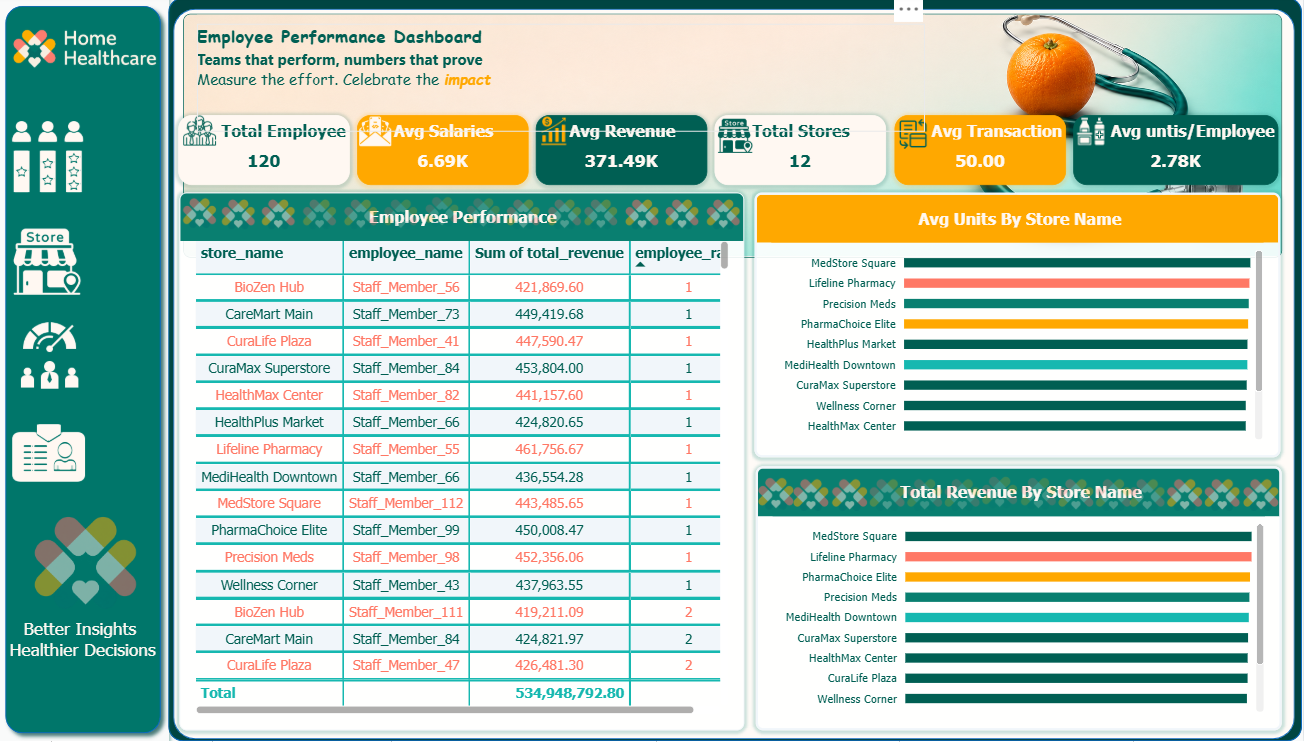

The page's visual inventory and layout, read from the dashboard file:
{"tool":"powerbi","page":{"name":"Employee Performance Dashboard","canvas":[1400,800],"ordinal":6},"visuals":[{"type":"shape","box":[184.2,2.4,1215.8,797.6],"z":0},{"type":"cardVisual","title":"Total Employee ","fields":{"Data":["Count(healthcare_db_enhanced vw_employee_performance.employee_id)"]},"box":[194.4,128.7,184.1,75.1],"z":0,"group":"g4"},{"type":"group","id":"g1","title":"Group 2","box":[195.7,213.5,474,40.6],"z":0,"group":"g8"},{"type":"group","id":"g2","title":"Group 2","box":[815.1,512.5,438.2,44.4],"z":0,"group":"g7"},{"type":"shape","box":[189.4,14.9,1202.7,783.3],"z":1000},{"type":"cardVisual","title":"Total Stores","fields":{"Data":["Count(healthcare_db_enhanced vw_employee_performance.store_name)"]},"box":[770,128.7,184.1,75.1],"z":1000,"group":"g4"},{"type":"image","box":[757.8,215.6,43.8,38.6],"z":1000,"group":"g8"},{"type":"image","box":[1334.7,514.8,40.5,42.2],"z":1000,"group":"g7"},{"type":"image","box":[200,20,1178.6,261.4],"z":2000},{"type":"cardVisual","title":"Avg Revenue","fields":{"Data":["Avg(healthcare_db_enhanced vw_employee_performance.total_revenue)"]},"box":[578.1,128.7,184.1,75.1],"z":2000,"group":"g4"},{"type":"image","box":[713.8,215.6,43.8,38.6],"z":2000,"group":"g8"},{"type":"image","box":[1294,514.8,40.5,42.2],"z":2000,"group":"g7"},{"type":"cardVisual","title":"Avg Salaries","fields":{"Data":["Avg(healthcare_db_enhanced vw_employee_performance.salary)"]},"box":[386.3,128.7,184.1,75.1],"z":3000,"group":"g4"},{"type":"tableEx","title":"Employee Performance","fields":{"Values":["healthcare_db_enhanced vw_employee_performance.store_name","healthcare_db_enhanced vw_employee_performance.employee_name","Sum(healthcare_db_enhanced vw_employee_performance.total_revenue)","healthcare_db_enhanced vw_employee_performance.employee_rank"]},"box":[195.7,211.8,605.9,576.4],"z":3000,"group":"g5"},{"type":"barChart","title":"Avg Units By Store Name","fields":{"Category":["healthcare_db_enhanced vw_employee_performance.store_name"],"Y":["Avg(healthcare_db_enhanced vw_employee_performance.total_units)"]},"box":[812.3,211.8,564.3,284.2],"z":3000},{"type":"image","box":[669.7,215.6,43.8,38.6],"z":3000,"group":"g8"},{"type":"image","box":[1253.3,514.8,40.5,42.2],"z":3000,"group":"g7"},{"type":"group","id":"g3","title":"Group 1","box":[0,2.7,184,798.2],"z":4000},{"type":"cardVisual","title":"Avg Transaction","fields":{"Data":["Avg(healthcare_db_enhanced vw_customer_dashboard.total_transactions)"]},"box":[961.8,128.7,184.1,75.1],"z":4000,"group":"g4"},{"type":"group","id":"g4","title":"Group 6","box":[194.4,128.7,1179.6,75.1],"z":5000},{"type":"cardVisual","title":"Avg untis/Employee","fields":{"Data":["Avg(healthcare_db_enhanced vw_employee_performance.total_units)"]},"box":[1153.7,128.7,220.3,75.1],"z":5000,"group":"g4"},{"type":"barChart","title":"Total Revenue By Store Name","fields":{"Category":["healthcare_db_enhanced vw_employee_performance.store_name"],"Y":["Sum(healthcare_db_enhanced vw_employee_performance.total_revenue)"]},"box":[813.7,505.4,564.3,282.8],"z":5000,"group":"g6"},{"type":"group","id":"g5","title":"Group 7","box":[195.7,211.8,605.9,576.4],"z":6000},{"type":"group","id":"g6","title":"Group 8","box":[813.7,505.4,564.3,282.8],"z":7000},{"type":"image","box":[199.7,127.3,34.9,36.2],"z":8000},{"type":"group","id":"g7","title":"Group 3","box":[815.1,512.5,560.1,44.5],"z":8000,"group":"g6"},{"type":"shape","box":[0,2.7,184.6,798],"z":8500,"group":"g3"},{"type":"image","box":[378,128.7,55,34.9],"z":9000},{"type":"group","id":"g8","title":"Group 3","box":[195.7,213.5,605.9,40.7],"z":9000,"group":"g5"},{"type":"image","box":[195.7,214.5,43.8,38.6],"z":9000,"group":"g1"},{"type":"image","box":[815.1,513.6,40.5,42.2],"z":9000,"group":"g2"},{"type":"image","box":[575.1,130,44.2,30.8],"z":10000},{"type":"image","box":[236.9,215.5,43.8,38.6],"z":10000,"group":"g1"},{"type":"image","box":[853.2,514.7,40.5,42.2],"z":10000,"group":"g2"},{"type":"image","box":[768.1,131.4,46.9,38.9],"z":11000},{"type":"image","box":[280.7,215.5,43.8,38.6],"z":11000,"group":"g1"},{"type":"image","box":[893.7,514.7,40.5,42.2],"z":11000,"group":"g2"},{"type":"image","box":[26.9,548.2,137,119],"z":11000,"group":"g9"},{"type":"image","box":[5.4,2.7,174.6,109.6],"z":12000,"group":"g3"},{"type":"image","box":[966.5,131.4,32.2,34.9],"z":12000},{"type":"image","box":[324.5,215.5,43.8,38.6],"z":12000,"group":"g1"},{"type":"image","box":[934.2,514.7,40.5,42.2],"z":12000,"group":"g2"},{"type":"image","box":[1156.8,128.7,32.2,34.9],"z":13000},{"type":"image","box":[368.3,215.5,43.8,38.6],"z":13000,"group":"g1"},{"type":"image","box":[974.7,514.7,40.5,42.2],"z":13000,"group":"g2"},{"type":"image","box":[412.1,215.5,43.8,38.6],"z":14000,"group":"g1"},{"type":"image","box":[1015.2,514.7,40.5,42.2],"z":14000,"group":"g2"},{"type":"group","id":"g9","title":"Group 5","box":[0,548.2,184,193.9],"z":14000,"group":"g3"},{"type":"textbox","box":[0,667.2,184,74.9],"z":14001,"group":"g10"},{"type":"image","box":[455.9,213.5,43.8,38.6],"z":15000,"group":"g1"},{"type":"image","box":[1055.6,512.5,40.5,42.2],"z":15000,"group":"g2"},{"type":"group","id":"g10","title":"Group 4","box":[0,667.2,184,74.9],"z":15000,"group":"g9"},{"type":"image","box":[499.7,214.5,43.8,38.6],"z":16000,"group":"g1"},{"type":"image","title":"Image store name 2","box":[5.7,248.6,97.1,75.7],"z":16000},{"type":"image","box":[1096.1,513.6,40.5,42.2],"z":16000,"group":"g2"},{"type":"image","box":[543.5,215.5,43.8,38.6],"z":17000,"group":"g1"},{"type":"image","box":[1136.6,514.7,40.5,42.2],"z":17000,"group":"g2"},{"type":"image","box":[587.3,215.5,43.8,38.6],"z":18000,"group":"g1"},{"type":"image","box":[1177.1,514.7,40.5,42.2],"z":18000,"group":"g2"},{"type":"image","box":[625.9,215.5,43.8,38.6],"z":19000,"group":"g1"},{"type":"image","box":[1212.8,514.7,40.5,42.2],"z":19000,"group":"g2"},{"type":"image","title":"Image Emp Rank","box":[5.4,135.4,97,76],"z":20000},{"type":"image","title":"Image Emp name","box":[8,453.1,97,76],"z":22000},{"type":"image","title":"Image Emp Rank 2","box":[6.1,135.4,97.4,76.1],"z":23000},{"type":"image","title":"Image Emp status 2","box":[7.6,348.5,96.6,75.8],"z":24000},{"type":"image","title":"Image Emp name 2","box":[7.3,453.4,96.1,76.2],"z":25000},{"type":"textbox","box":[214.3,31.4,780,114.3],"z":26000}]}

Visuals, with their boxes in screenshot pixels (x1, y1, x2, y2), scaled from the page's 1400x800 canvas onto the 1304x742 screenshot:
shape: {"left": 172, "top": 2, "right": 1303, "bottom": 741}
"Total Employee " cardVisual: {"left": 181, "top": 119, "right": 353, "bottom": 189}
"Group 2" group: {"left": 182, "top": 198, "right": 624, "bottom": 236}
"Group 2" group: {"left": 759, "top": 475, "right": 1167, "bottom": 517}
shape: {"left": 176, "top": 14, "right": 1297, "bottom": 740}
"Total Stores" cardVisual: {"left": 717, "top": 119, "right": 889, "bottom": 189}
image: {"left": 706, "top": 200, "right": 747, "bottom": 236}
image: {"left": 1243, "top": 477, "right": 1281, "bottom": 517}
image: {"left": 186, "top": 19, "right": 1284, "bottom": 261}
"Avg Revenue" cardVisual: {"left": 538, "top": 119, "right": 710, "bottom": 189}
image: {"left": 665, "top": 200, "right": 706, "bottom": 236}
image: {"left": 1205, "top": 477, "right": 1243, "bottom": 517}
"Avg Salaries" cardVisual: {"left": 360, "top": 119, "right": 531, "bottom": 189}
"Employee Performance" tableEx: {"left": 182, "top": 196, "right": 747, "bottom": 731}
"Avg Units By Store Name" barChart: {"left": 757, "top": 196, "right": 1282, "bottom": 460}
image: {"left": 624, "top": 200, "right": 665, "bottom": 236}
image: {"left": 1167, "top": 477, "right": 1205, "bottom": 517}
"Group 1" group: {"left": 0, "top": 3, "right": 171, "bottom": 741}
"Avg Transaction" cardVisual: {"left": 896, "top": 119, "right": 1067, "bottom": 189}
"Group 6" group: {"left": 181, "top": 119, "right": 1280, "bottom": 189}
"Avg untis/Employee" cardVisual: {"left": 1075, "top": 119, "right": 1280, "bottom": 189}
"Total Revenue By Store Name" barChart: {"left": 758, "top": 469, "right": 1284, "bottom": 731}
"Group 7" group: {"left": 182, "top": 196, "right": 747, "bottom": 731}
"Group 8" group: {"left": 758, "top": 469, "right": 1284, "bottom": 731}
image: {"left": 186, "top": 118, "right": 219, "bottom": 152}
"Group 3" group: {"left": 759, "top": 475, "right": 1281, "bottom": 517}
shape: {"left": 0, "top": 3, "right": 172, "bottom": 741}
image: {"left": 352, "top": 119, "right": 403, "bottom": 152}
"Group 3" group: {"left": 182, "top": 198, "right": 747, "bottom": 236}
image: {"left": 182, "top": 199, "right": 223, "bottom": 235}
image: {"left": 759, "top": 476, "right": 797, "bottom": 516}
image: {"left": 536, "top": 121, "right": 577, "bottom": 149}
image: {"left": 221, "top": 200, "right": 261, "bottom": 236}
image: {"left": 795, "top": 477, "right": 832, "bottom": 517}
image: {"left": 715, "top": 122, "right": 759, "bottom": 158}
image: {"left": 261, "top": 200, "right": 302, "bottom": 236}
image: {"left": 832, "top": 477, "right": 870, "bottom": 517}
image: {"left": 25, "top": 508, "right": 153, "bottom": 619}
image: {"left": 5, "top": 3, "right": 168, "bottom": 104}
image: {"left": 900, "top": 122, "right": 930, "bottom": 154}
image: {"left": 302, "top": 200, "right": 343, "bottom": 236}
image: {"left": 870, "top": 477, "right": 908, "bottom": 517}
image: {"left": 1077, "top": 119, "right": 1107, "bottom": 152}
image: {"left": 343, "top": 200, "right": 384, "bottom": 236}
image: {"left": 908, "top": 477, "right": 946, "bottom": 517}
image: {"left": 384, "top": 200, "right": 425, "bottom": 236}
image: {"left": 946, "top": 477, "right": 983, "bottom": 517}
"Group 5" group: {"left": 0, "top": 508, "right": 171, "bottom": 688}
textbox: {"left": 0, "top": 619, "right": 171, "bottom": 688}
image: {"left": 425, "top": 198, "right": 465, "bottom": 234}
image: {"left": 983, "top": 475, "right": 1021, "bottom": 514}
"Group 4" group: {"left": 0, "top": 619, "right": 171, "bottom": 688}
image: {"left": 465, "top": 199, "right": 506, "bottom": 235}
"Image store name 2" image: {"left": 5, "top": 231, "right": 96, "bottom": 301}
image: {"left": 1021, "top": 476, "right": 1059, "bottom": 516}
image: {"left": 506, "top": 200, "right": 547, "bottom": 236}
image: {"left": 1059, "top": 477, "right": 1096, "bottom": 517}
image: {"left": 547, "top": 200, "right": 588, "bottom": 236}
image: {"left": 1096, "top": 477, "right": 1134, "bottom": 517}
image: {"left": 583, "top": 200, "right": 624, "bottom": 236}
image: {"left": 1130, "top": 477, "right": 1167, "bottom": 517}
"Image Emp Rank" image: {"left": 5, "top": 126, "right": 95, "bottom": 196}
"Image Emp name" image: {"left": 7, "top": 420, "right": 98, "bottom": 491}
"Image Emp Rank 2" image: {"left": 6, "top": 126, "right": 96, "bottom": 196}
"Image Emp status 2" image: {"left": 7, "top": 323, "right": 97, "bottom": 394}
"Image Emp name 2" image: {"left": 7, "top": 421, "right": 96, "bottom": 491}
textbox: {"left": 200, "top": 29, "right": 926, "bottom": 135}
